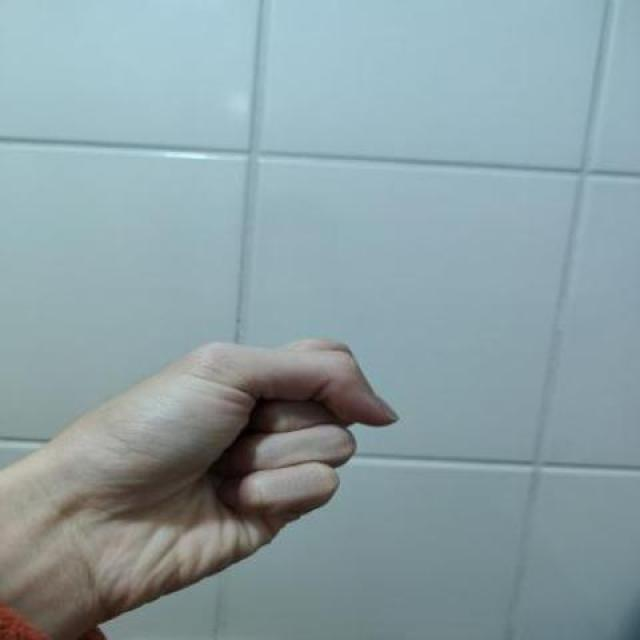fist: (3, 298, 404, 640)
